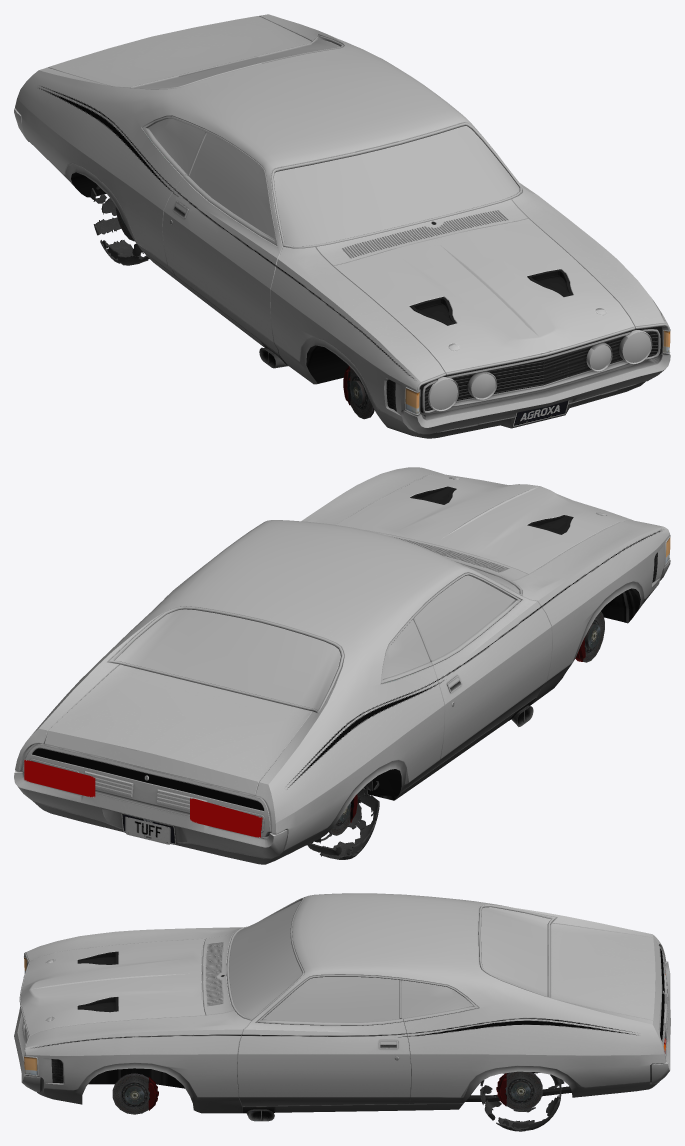
The model's file is 42_AGROXA.fbx.
3 renders of one model, top to bottom at view 1: azimuth 30°, elevation 25°; view 2: azimuth 150°, elevation 25°; view 3: azimuth 270°, elevation 25°, orthographic. The views are drawn at different scales.
Visible parts, largest first — view 1: body_duco, body_glass, body_kit_00, body_chrome, body_matte, kit00_matte, Rotor; view 2: body_duco, body_glass, body_kit_00, body_chrome, BrakeLights, body_matte, kit00_matte, NumberPlate, Rotor; view 3: body_duco, body_glass, body_kit_00, body_chrome, Rotor (×2), body_matte, kit00_matte.
Boxes of the visible parts, x1=… form: body_duco: x1=15, y1=14, x2=669, y2=438; body_glass: x1=136, y1=38, x2=650, y2=409; body_kit_00: x1=333, y1=218, x2=634, y2=372; body_chrome: x1=14, y1=34, x2=670, y2=434; body_matte: x1=71, y1=172, x2=661, y2=426; kit00_matte: x1=409, y1=269, x2=605, y2=350; Rotor: x1=349, y1=367, x2=374, y2=419; body_duco: x1=15, y1=467, x2=669, y2=864; body_glass: x1=115, y1=562, x2=519, y2=709; body_kit_00: x1=337, y1=473, x2=633, y2=574; body_chrome: x1=14, y1=530, x2=670, y2=857; BrakeLights: x1=24, y1=759, x2=260, y2=838; body_matte: x1=121, y1=552, x2=657, y2=844; kit00_matte: x1=410, y1=477, x2=605, y2=534; NumberPlate: x1=125, y1=816, x2=170, y2=844; Rotor: x1=583, y1=611, x2=604, y2=662; body_duco: x1=25, y1=893, x2=668, y2=1113; body_glass: x1=23, y1=900, x2=550, y2=1044; body_kit_00: x1=20, y1=938, x2=205, y2=1035; body_chrome: x1=14, y1=897, x2=670, y2=1092; Rotor (×2): x1=112, y1=1071, x2=542, y2=1114; body_matte: x1=51, y1=1059, x2=571, y2=1121; kit00_matte: x1=46, y1=951, x2=118, y2=1021.
Size of what is drawn, in the model's own units: 1.92 by 1.29 by 4.79.
